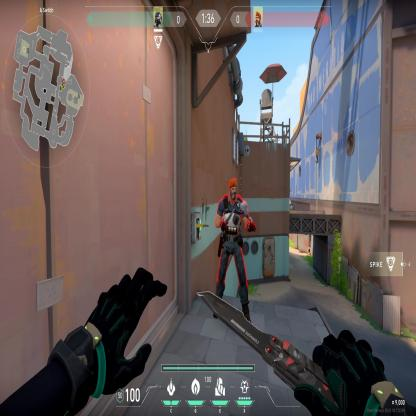enemy: (210, 175, 256, 342)
